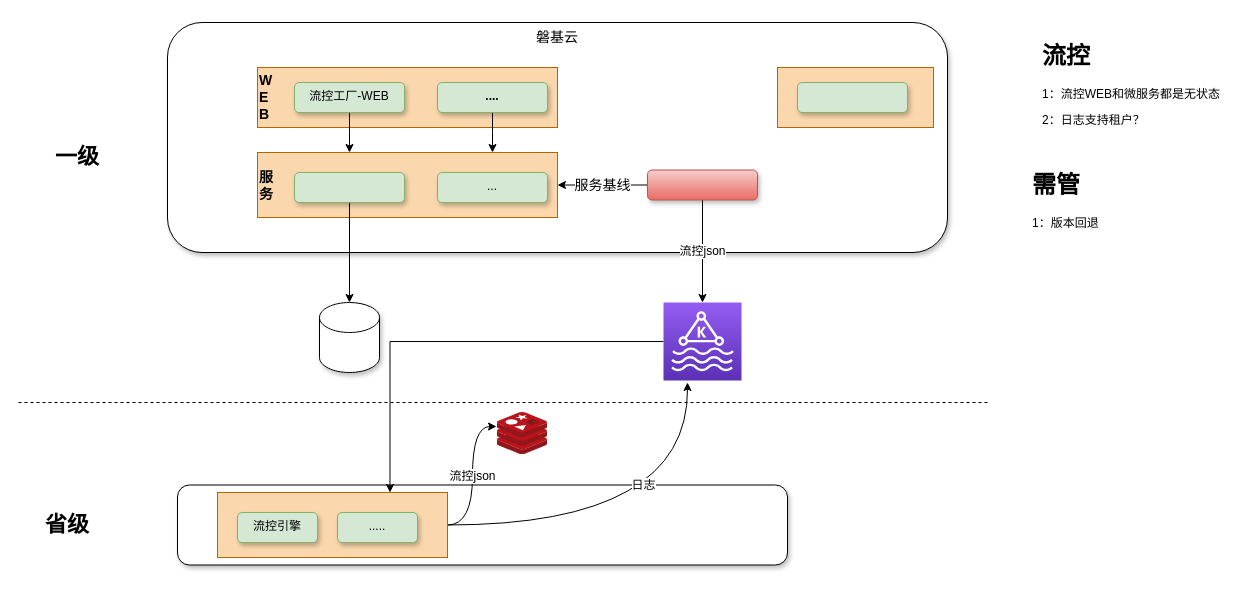
This 1245x589 diagram has some shape labels left out. Here are the shapes that lost their labels. From the top down, the centre of each, then its label:
point 853,99: 日志平台
point 350,189: 流控工厂-服务
point 703,186: 需求管控
